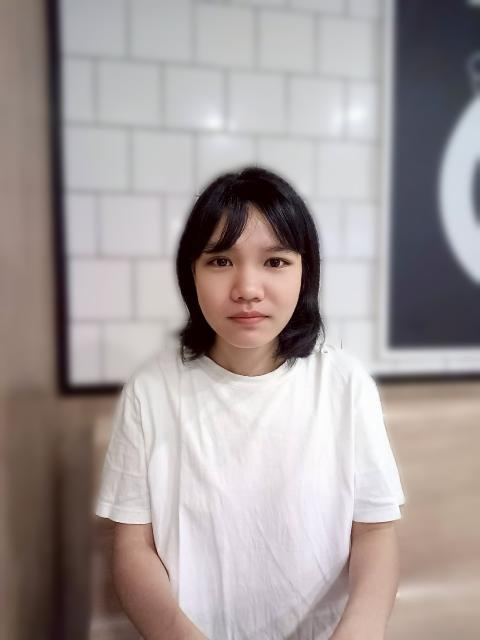fokus: (189, 197, 306, 350)
